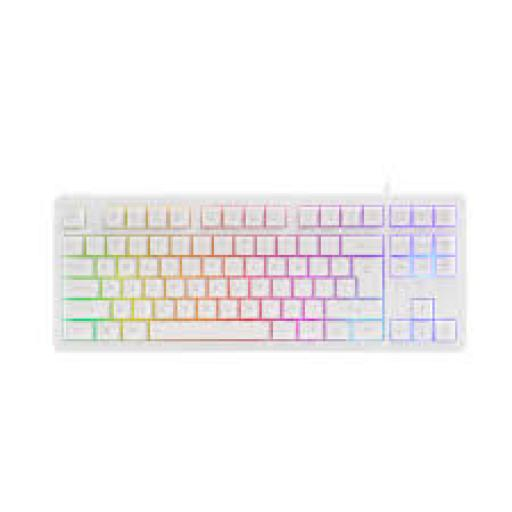keyboard: (47, 182, 483, 362)
